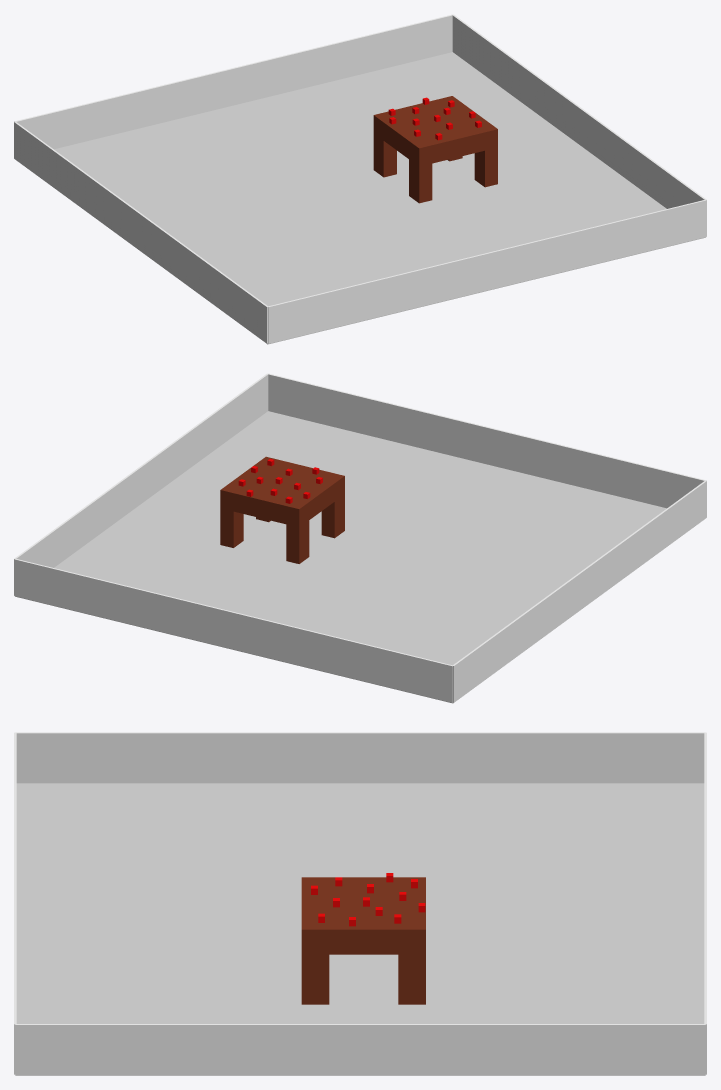
3 renders of one model, top to bottom at view 1: azimuth 30°, elevation 25°; view 2: azimuth 150°, elevation 25°; view 3: azimuth 270°, elevation 25°, orthographic. The views are drawn at different scales.
Parts seen in each view (by area): view 1: _dummylink0_ (×5), base (×4); view 2: _dummylink0_ (×5), base (×4); view 3: _dummylink0_ (×5), base (×3).
Boxes of the visible parts, left/top/right/bottom form: _dummylink0_ (×5): left=14, top=14, right=706, bottom=344; base (×4): left=373, top=96, right=497, bottom=203; _dummylink0_ (×5): left=14, top=373, right=706, bottom=703; base (×4): left=220, top=456, right=344, bottom=563; _dummylink0_ (×5): left=14, top=732, right=706, bottom=1075; base (×3): left=301, top=877, right=425, bottom=1004.
Size of the model in its own units: 5.02 by 5.02 by 0.672.
